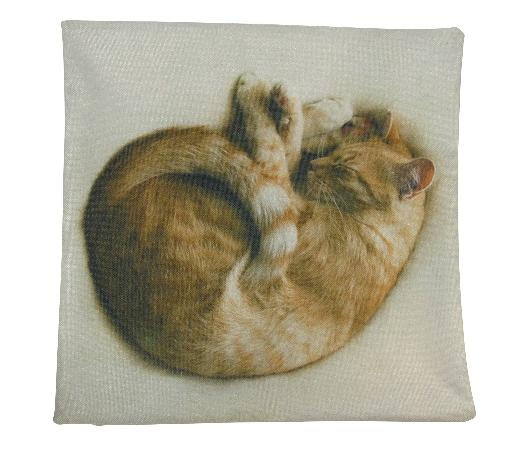cat_sleeping: (83, 75, 435, 377)
